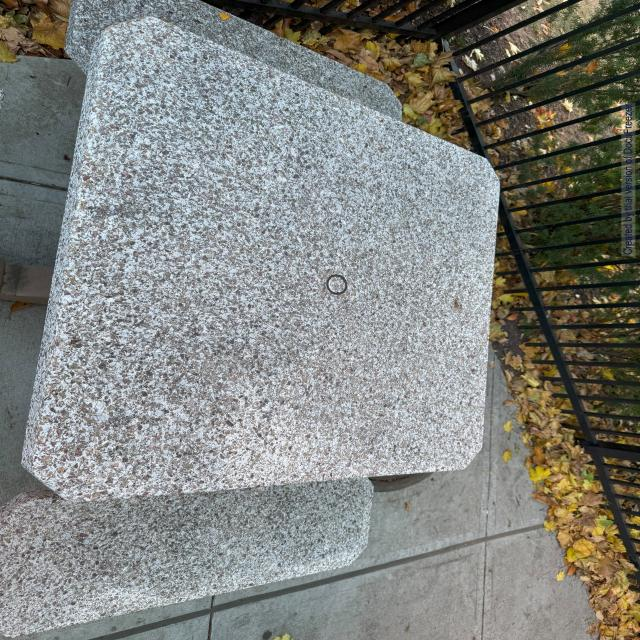Table: (29, 10, 525, 549)
